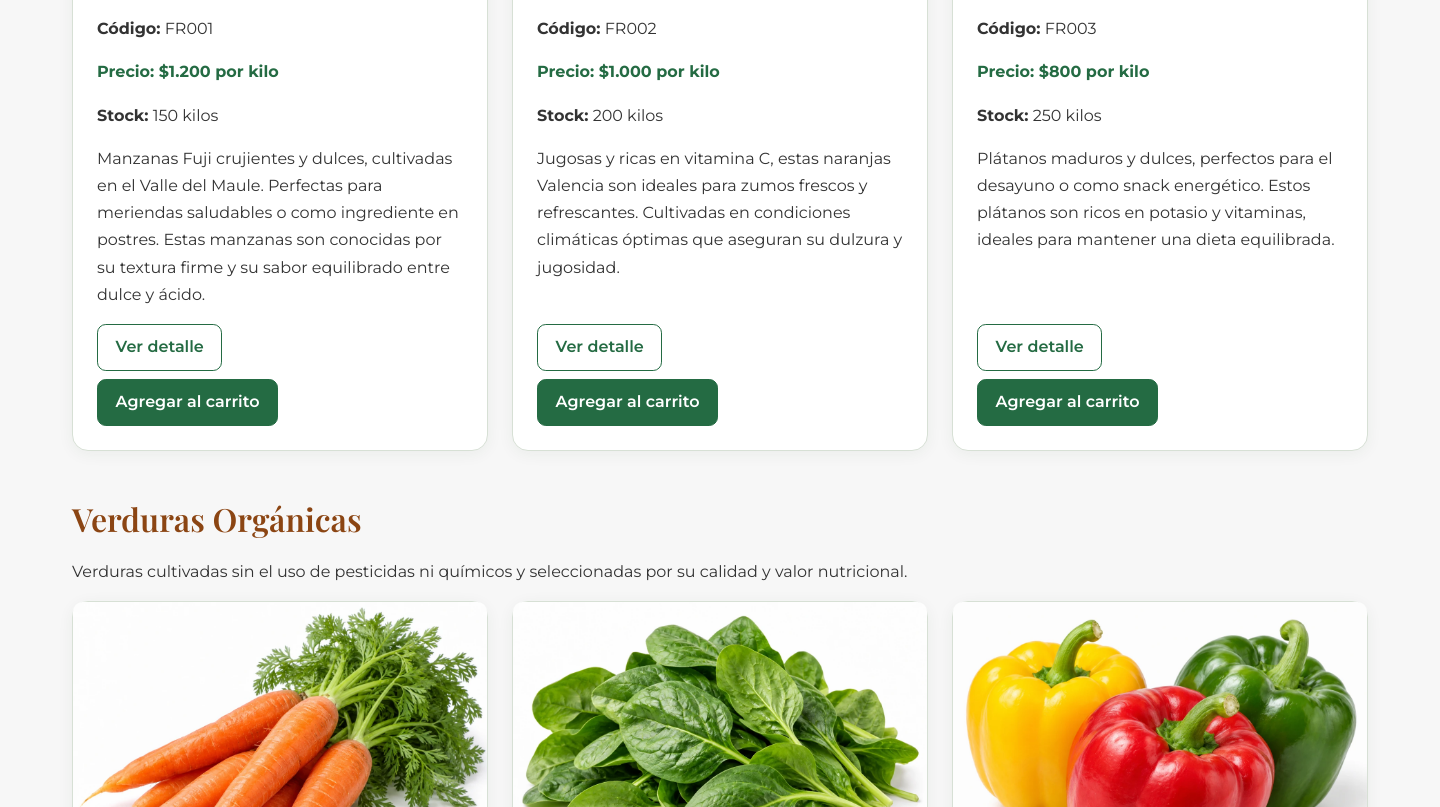
Scenario: App y persistencia del carrito › actualiza el contador y persiste el artículo al agregar Manzanas Fuji
(page scrolled)
Step 1. Click the button with aria-label "Agregar al carrito: Manzanas Fuji" → point(188, 402), box [97,379,278,426]
(page scrolled)
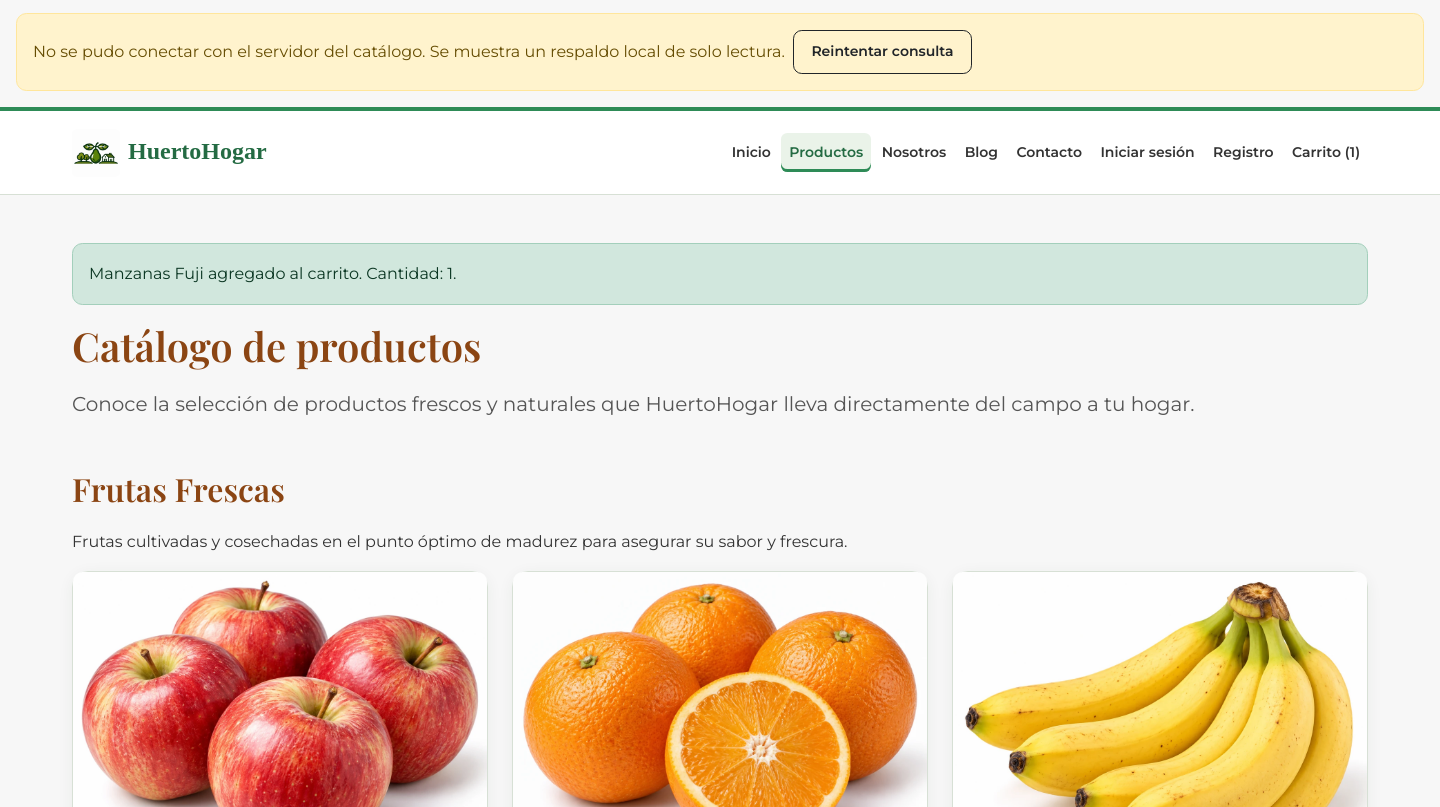
Now the link "Carrito (1)" is shown, box [1292,143,1360,161]
